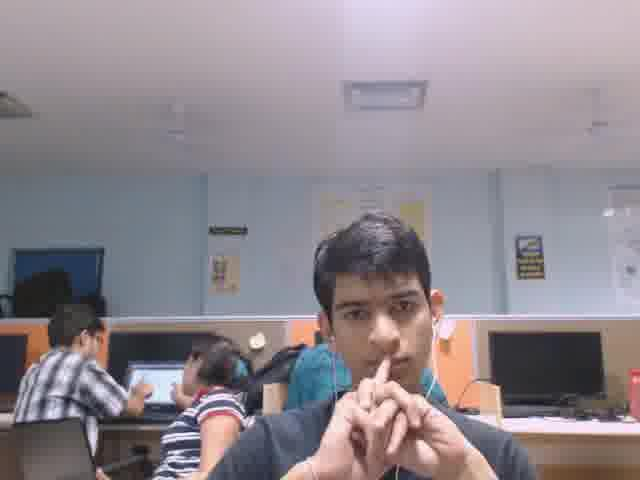bingung: (328, 265, 426, 390)
